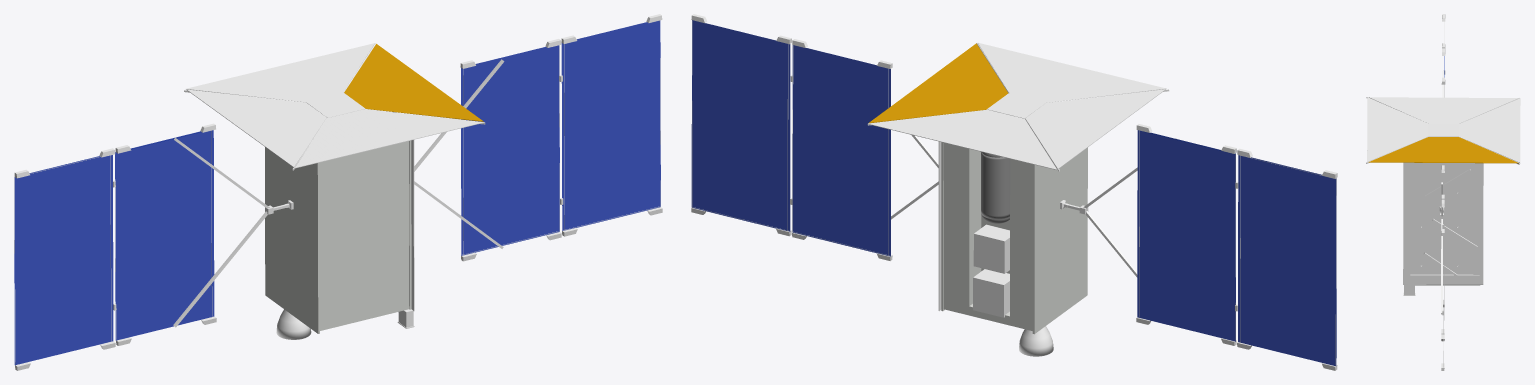
File: hgf.glb
3 renders of one model, left to right at view 1: azimuth 30°, elevation 25°; view 2: azimuth 150°, elevation 25°; view 3: azimuth 270°, elevation 25°, orthographic. The views are drawn at different scales.
Visible parts, largest first — view 1: Satellite, DeployedReflector, Solar Panel.002, Solar Panel.001, Solar Panel.003, Solar Panel, Bracket2, Bracket.001, Bracket.002, Cube.071, Thruster, Plane.001; view 2: DeployedReflector, Satellite, Solar Panel.001, Solar Panel.003, Solar Panel.002, Solar Panel, Panels, Tank, Bracket2, Cube.071, Thruster, Bracket.001 (+1 smaller); view 3: DeployedReflector, Plane.001, Cube.071, Bracket2, Bracket.002, Cube.010, Cube.008, Reflectorbracketsfull, Cube.009.
Boxes of the visible parts, box(x1,y1,x2,y2) form: Satellite: box(265, 112, 411, 333); DeployedReflector: box(186, 43, 484, 168); Solar Panel.002: box(14, 155, 113, 365); Solar Panel.001: box(561, 20, 660, 230); Solar Panel.003: box(115, 130, 214, 340); Solar Panel: box(461, 45, 559, 255); Bracket2: box(14, 14, 662, 370); Bracket.001: box(113, 137, 293, 327); Bracket.002: box(414, 59, 563, 248); Cube.071: box(306, 92, 365, 117); Thruster: box(276, 309, 311, 339); Plane.001: box(411, 140, 414, 311); DeployedReflector: box(868, 42, 1166, 169); Satellite: box(941, 113, 1087, 334); Solar Panel.001: box(691, 20, 790, 231); Solar Panel.003: box(1137, 130, 1235, 341); Solar Panel.002: box(1238, 155, 1336, 365); Solar Panel: box(792, 45, 890, 256); Panels: box(973, 224, 1009, 317); Tank: box(981, 152, 1010, 223); Bracket2: box(691, 14, 1337, 370); Cube.071: box(987, 93, 1046, 118); Thruster: box(1019, 326, 1053, 356); Bracket.001: box(1060, 137, 1238, 311); DeployedReflector: box(1367, 97, 1520, 163); Plane.001: box(1403, 162, 1483, 284); Cube.071: box(1428, 123, 1458, 136); Bracket2: box(1441, 14, 1445, 370); Bracket.002: box(1439, 182, 1444, 315); Cube.010: box(1410, 274, 1479, 277); Cube.008: box(1425, 169, 1470, 197); Reflectorbracketsfull: box(1366, 97, 1519, 164); Cube.009: box(1432, 219, 1477, 248).
Bounding box in the file's own units: 8.91 × 3.16 × 2.63.
